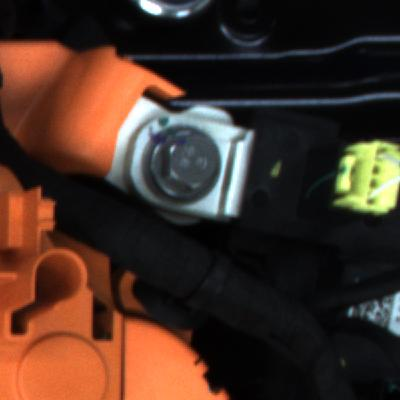nut_b: (134, 117, 235, 211)
